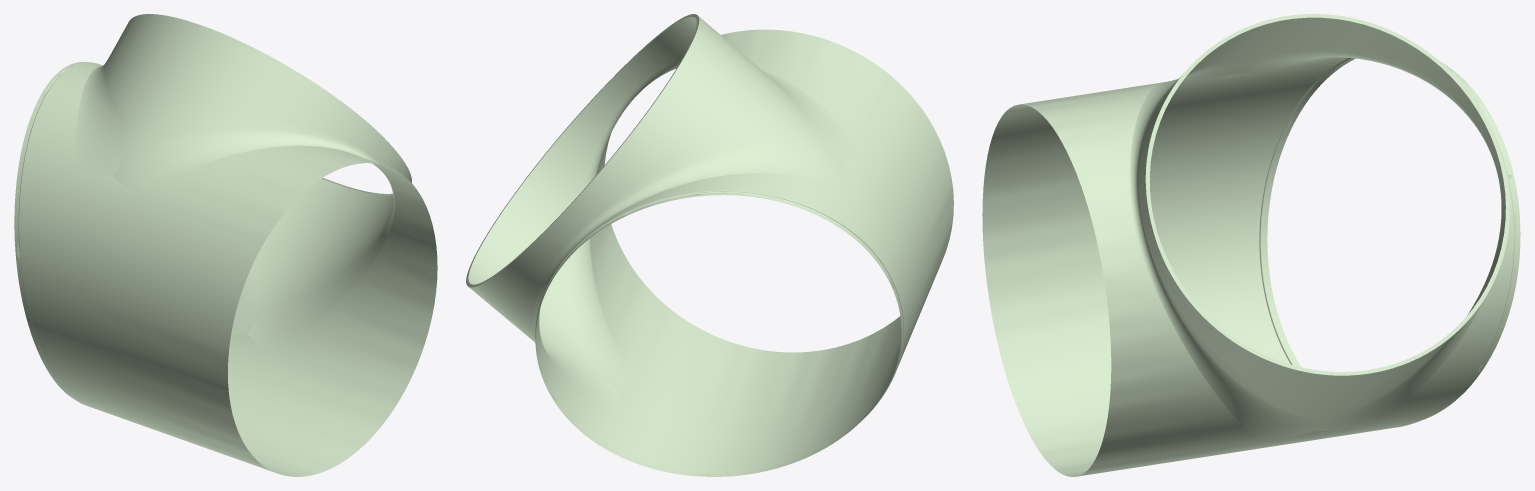
Rendered from Joint_3_2.fbx.
The picture shows the model from 3 angles, left to right: view 1: azimuth 30°, elevation 25°; view 2: azimuth 150°, elevation 25°; view 3: azimuth 270°, elevation 25°; orthographic projection. The views are drawn at different scales.
Visible parts, largest first — view 1: Joint_3.007; view 2: Joint_3.007; view 3: Joint_3.007.
Boxes of the visible parts, x1=… form: Joint_3.007: x1=14, y1=14, x2=437, y2=476; Joint_3.007: x1=466, y1=14, x2=953, y2=476; Joint_3.007: x1=982, y1=14, x2=1520, y2=476.
Bounding box in the file's own units: 11.76 × 11.35 × 12.86.
